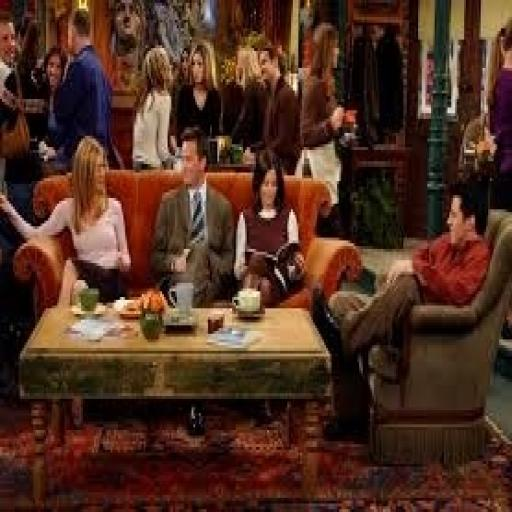sitting: (147, 124, 236, 306)
